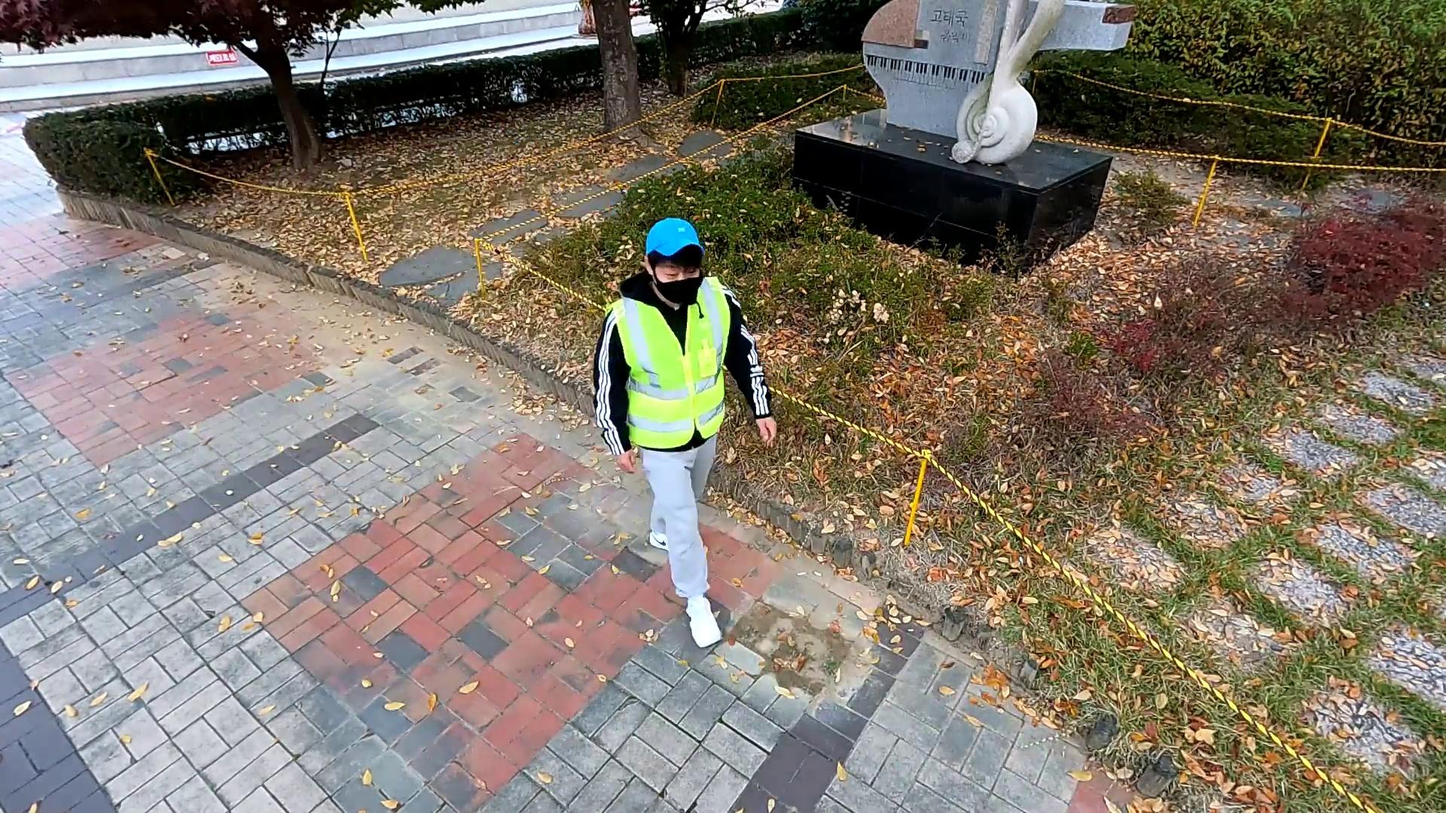person: (590, 210, 781, 653)
